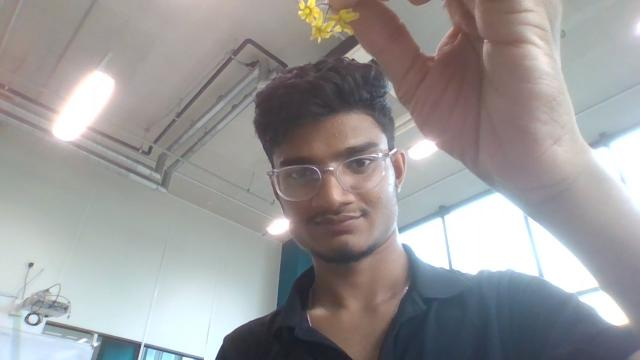Anthesis: (323, 8, 359, 37), (297, 0, 323, 26), (310, 20, 338, 43)
